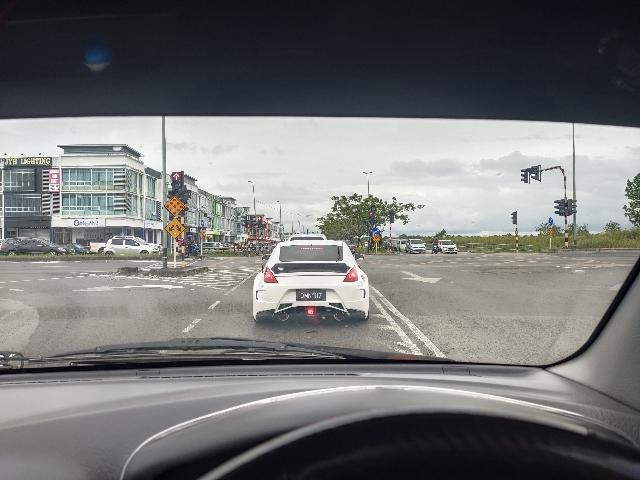License_Plate: (297, 291, 327, 302)
car: (250, 238, 372, 324)
